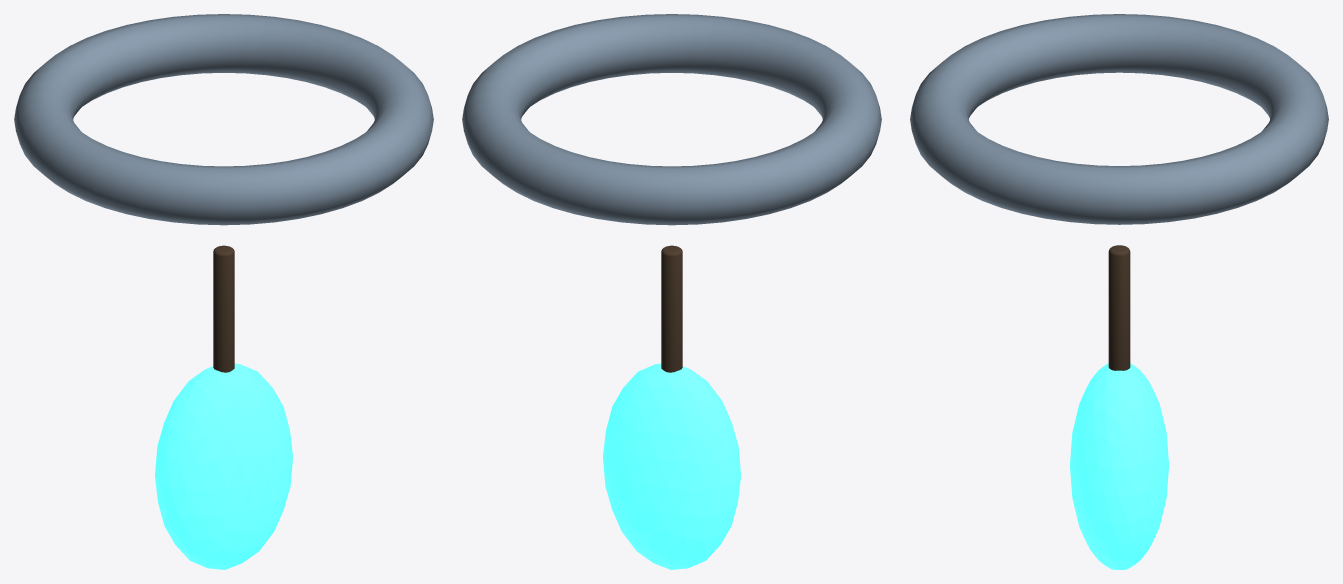
The model's file is earring.glb.
3 renders of one model, left to right at view 1: azimuth 30°, elevation 25°; view 2: azimuth 150°, elevation 25°; view 3: azimuth 270°, elevation 25°, orthographic.
Parts seen in each view (by area): view 1: EARRING_HOOP_PRIMARY, EARRING_GEM_EMISSIVE, EARRING_CHAIN_SECONDARY; view 2: EARRING_HOOP_PRIMARY, EARRING_GEM_EMISSIVE, EARRING_CHAIN_SECONDARY; view 3: EARRING_HOOP_PRIMARY, EARRING_GEM_EMISSIVE, EARRING_CHAIN_SECONDARY.
Boxes of the visible parts, x1,y1,x2,y2 form: EARRING_HOOP_PRIMARY: (14,14,433,225); EARRING_GEM_EMISSIVE: (155,363,292,569); EARRING_CHAIN_SECONDARY: (213,245,234,372); EARRING_HOOP_PRIMARY: (462,14,881,225); EARRING_GEM_EMISSIVE: (603,363,740,569); EARRING_CHAIN_SECONDARY: (661,245,682,372); EARRING_HOOP_PRIMARY: (910,14,1328,224); EARRING_GEM_EMISSIVE: (1070,363,1168,569); EARRING_CHAIN_SECONDARY: (1108,245,1130,370).
Bounding box in the file's own units: 1.35 × 1.69 × 1.35.
